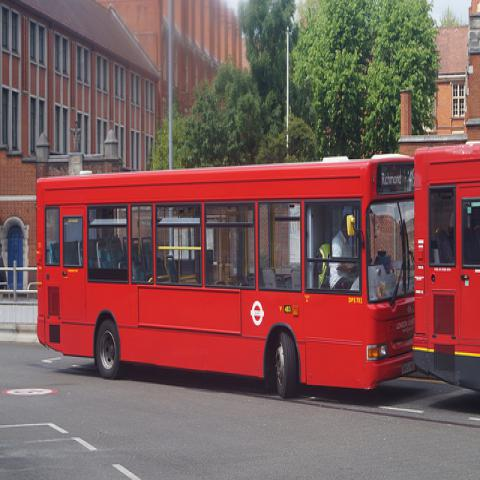bus: (35, 153, 416, 398), (412, 144, 480, 393)
